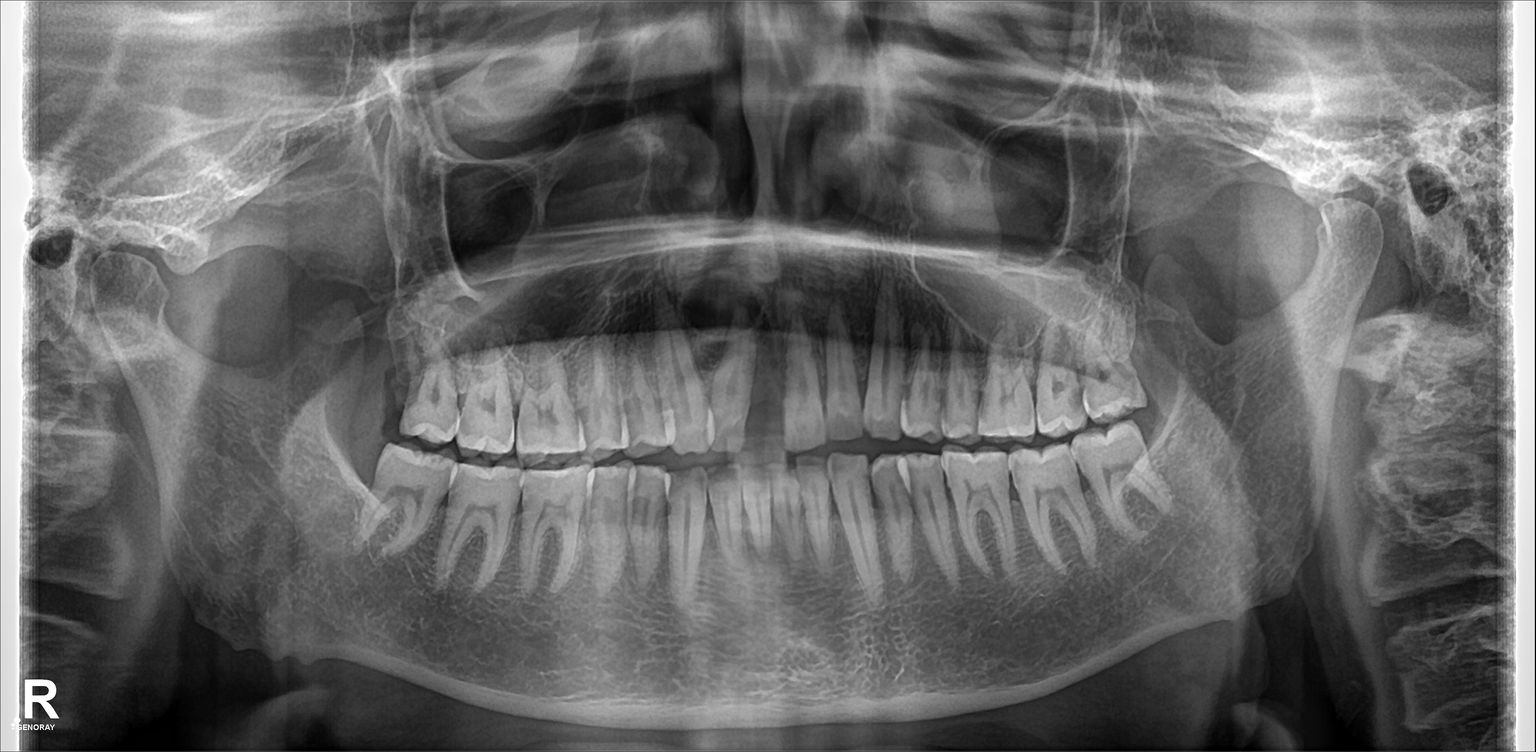Missing Tooth: (754, 344, 787, 457), (367, 329, 407, 422), (346, 436, 381, 500)
